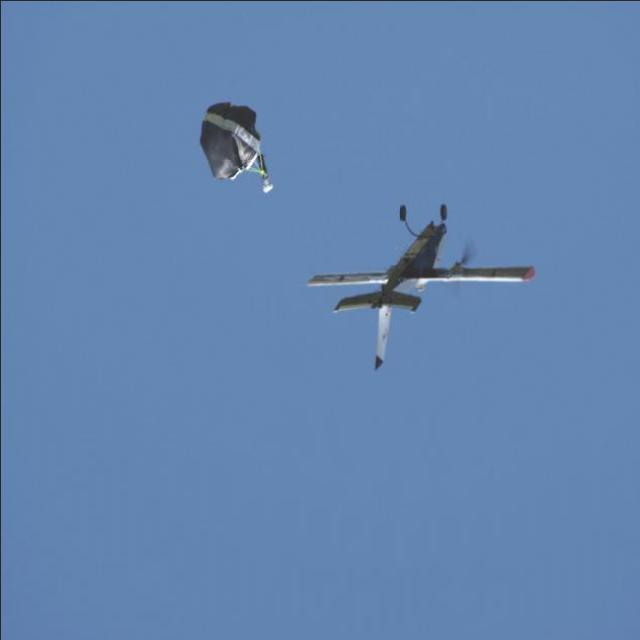plane: (305, 202, 536, 372)
